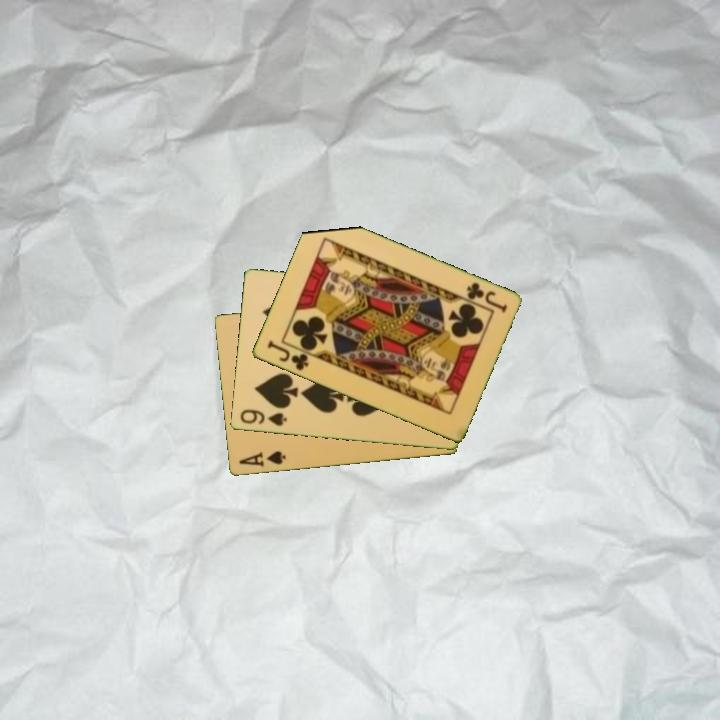9s: (236, 406, 289, 429)
As: (236, 448, 288, 470)
Jc: (263, 337, 311, 374), (462, 279, 510, 316)
